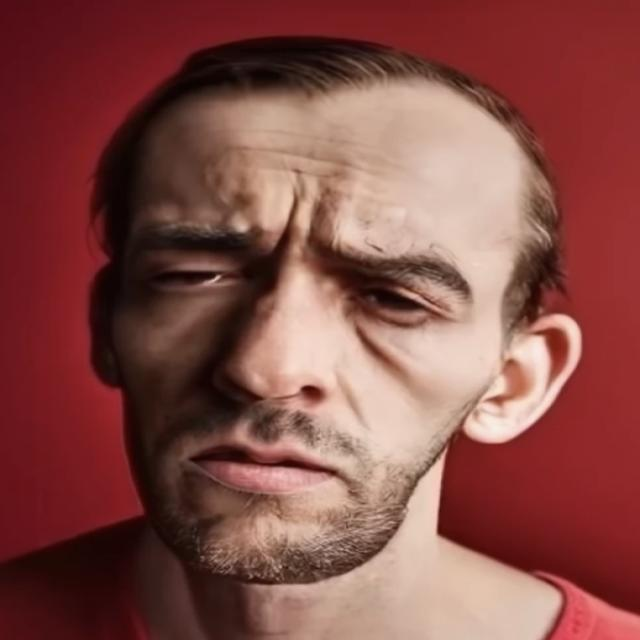sad: (98, 43, 554, 589)
